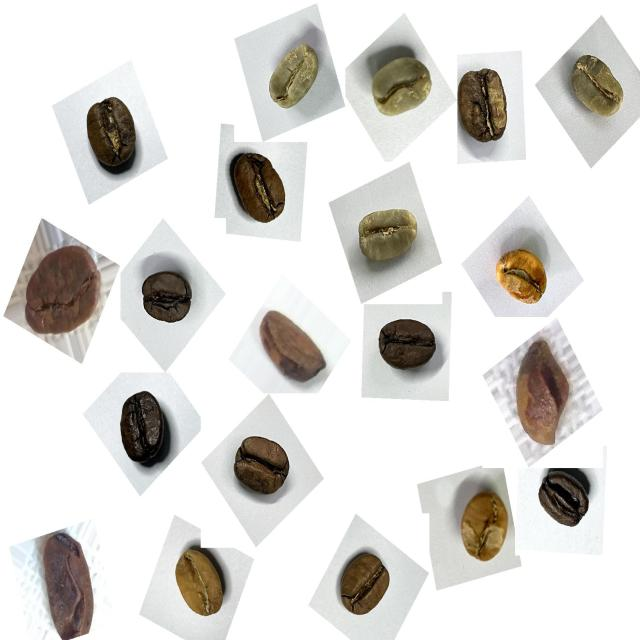bad: (17, 234, 109, 349), (29, 524, 111, 638), (502, 334, 576, 455), (252, 303, 331, 395)
dark: (107, 381, 180, 476), (225, 427, 298, 513), (370, 308, 446, 389), (529, 466, 599, 543), (133, 258, 201, 337)
green: (359, 40, 442, 135), (346, 195, 428, 278), (559, 45, 635, 134), (257, 35, 329, 124)
light: (446, 479, 520, 575), (164, 537, 238, 632), (486, 236, 555, 315)
medium: (448, 57, 521, 158), (222, 143, 299, 238), (74, 88, 148, 180), (328, 544, 401, 632)
